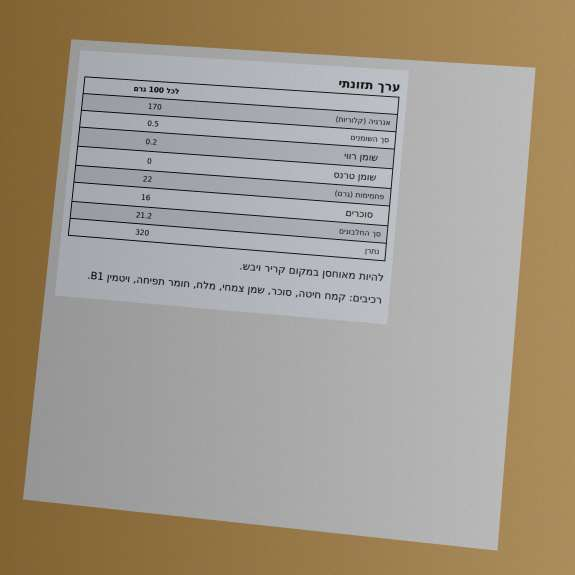carbs: (141, 173, 154, 185)
energy: (146, 101, 163, 113)
fat: (146, 118, 160, 130)
protein: (134, 209, 154, 222)
